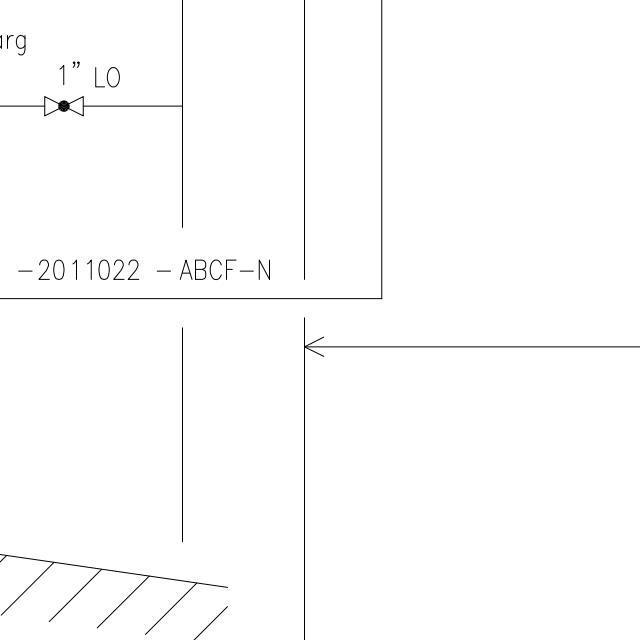BV2: (38, 89, 92, 123)
